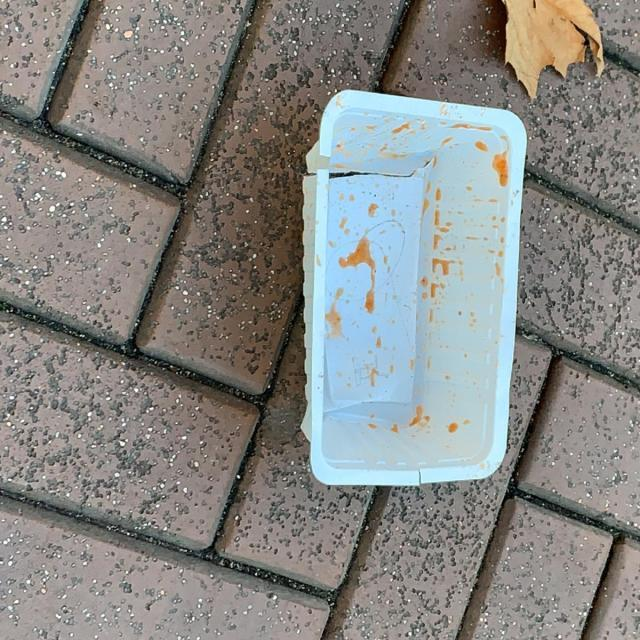Plastic: (296, 88, 530, 491)
